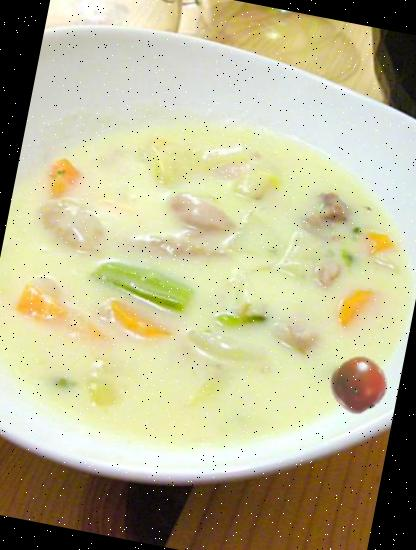Tomato: (325, 350, 392, 418)
